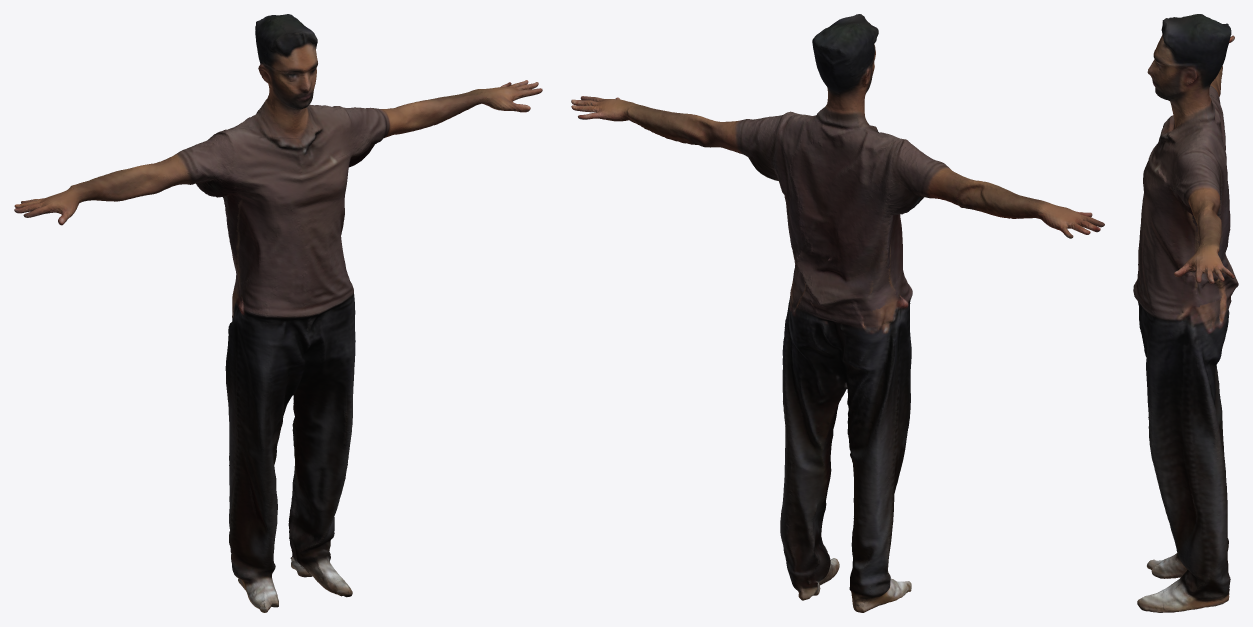
File: animation_lowres.obj
3 views of the same model, side by side, from view 1: azimuth 30°, elevation 25°; view 2: azimuth 150°, elevation 25°; view 3: azimuth 270°, elevation 25° (orthographic).
Size of the model in its own units: 1.78 by 1.85 by 0.3074.
